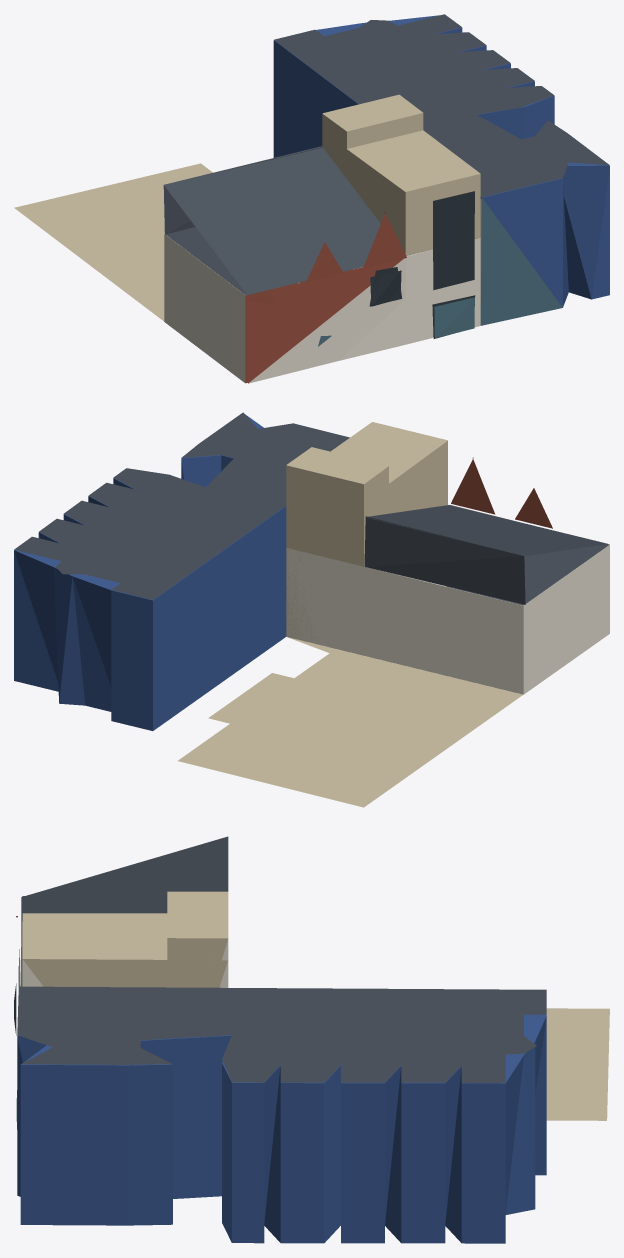
The model's file is national-holocaust-museum.lod2.glb.
The picture shows the model from 3 angles, top to bottom: view 1: azimuth 30°, elevation 25°; view 2: azimuth 150°, elevation 25°; view 3: azimuth 270°, elevation 25°; orthographic projection. The views are drawn at different scales.
Parts seen in each view (by area): view 1: lod2; view 2: lod2; view 3: lod2.
Part boxes in pixels (x1,y1,x2,y2): lod2: [14, 14, 609, 383]; lod2: [14, 412, 609, 807]; lod2: [14, 836, 609, 1243].
Bounding box in the file's own units: 44.53 × 18.33 × 47.07.
